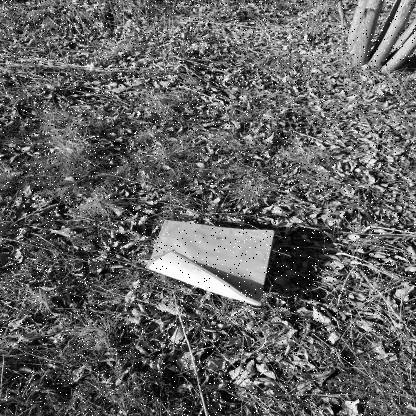other: (146, 220, 275, 306)
